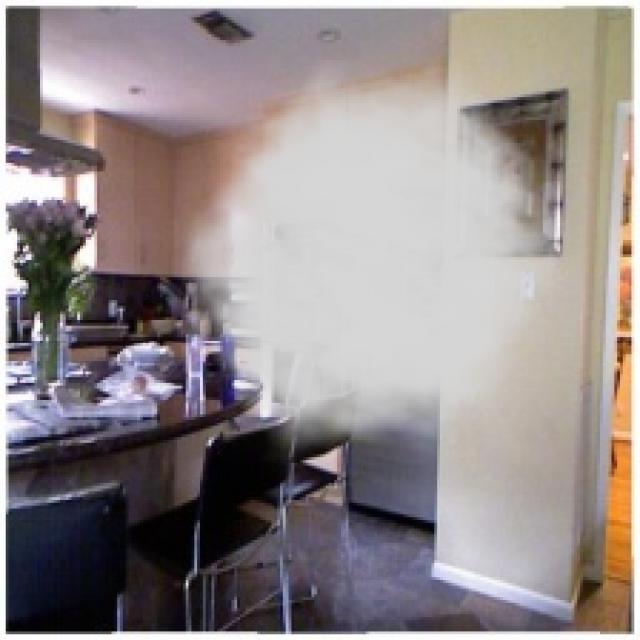smoke: (166, 60, 580, 466)
